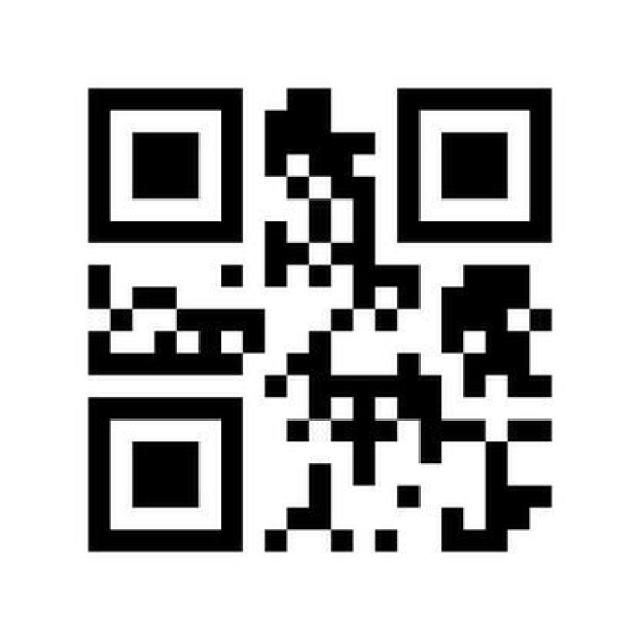QRCode: (74, 74, 573, 569)
